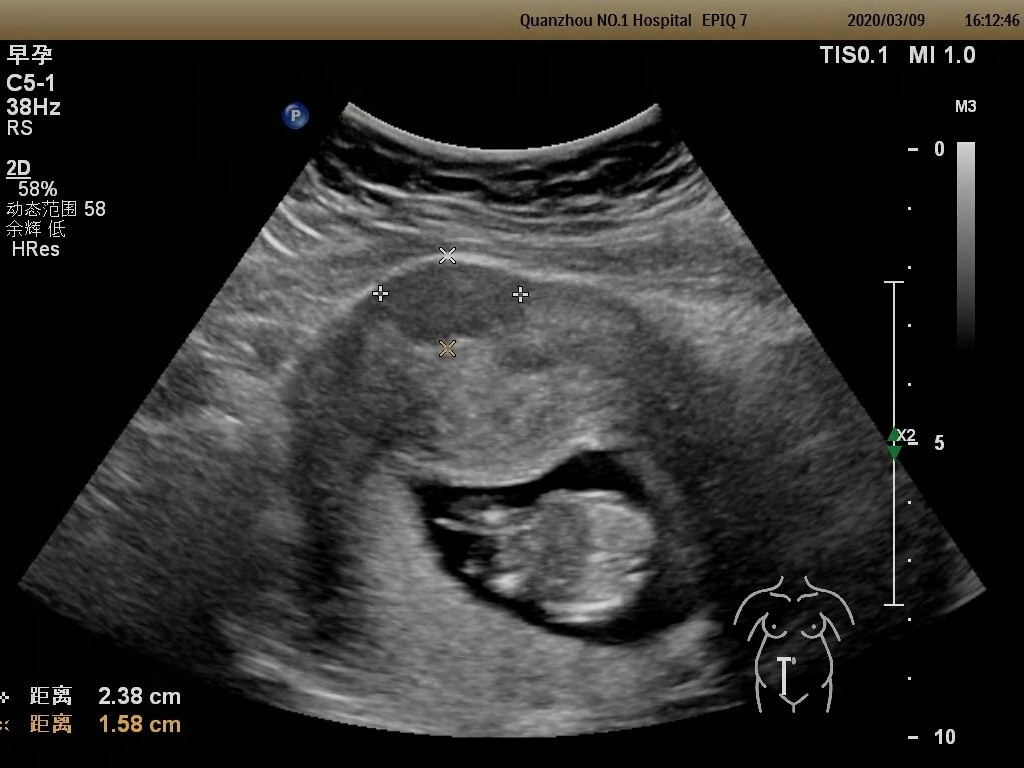肌瘤: (381, 257, 523, 349)
